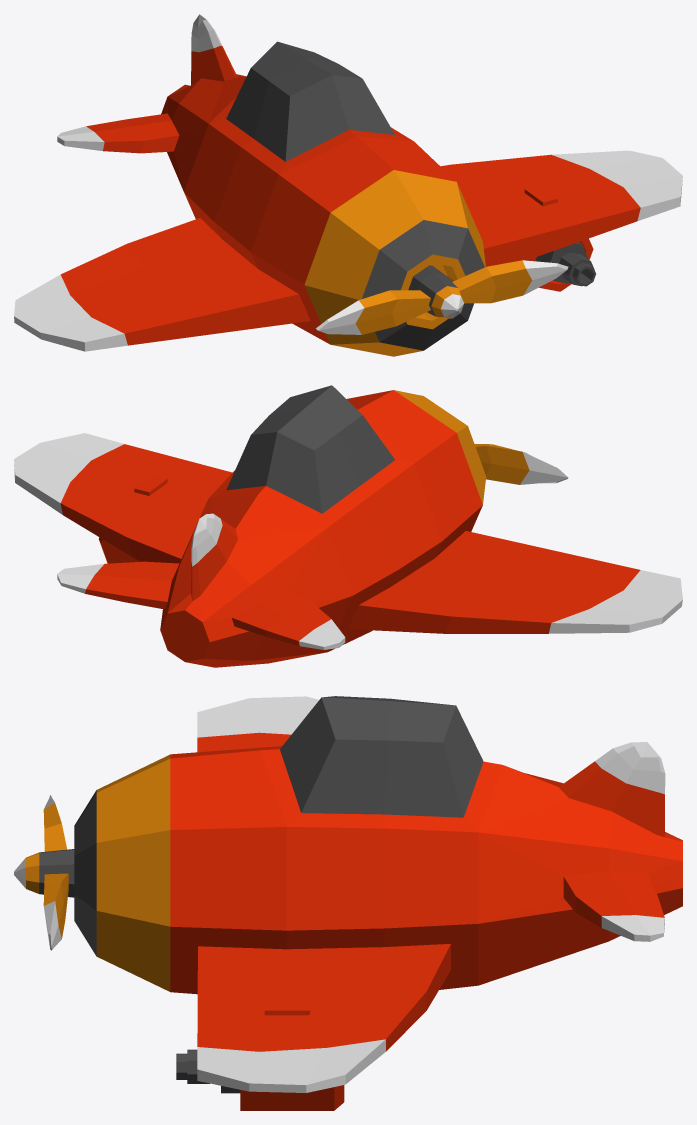
Rendered from minigun.glb.
The picture shows the model from 3 angles, top to bottom: view 1: azimuth 30°, elevation 25°; view 2: azimuth 150°, elevation 25°; view 3: azimuth 270°, elevation 25°; orthographic projection. The views are drawn at different scales.
Parts seen in each view (by area): view 1: Plane, Heli, minigun; view 2: Plane, Heli, minigun; view 3: Plane, Heli, minigun.
Boxes of the visible parts, x1,y1,x2,y2 form: Plane: (14,14,682,356); Heli: (316,260,568,334); minigun: (524,185,595,291); Plane: (14,385,682,667); Heli: (474,444,568,484); minigun: (99,475,167,563); Plane: (74,696,682,1092); Heli: (14,795,74,950); minigun: (176,1001,344,1110).
Size of the model in its own units: 6.78 by 2.43 by 4.93.
